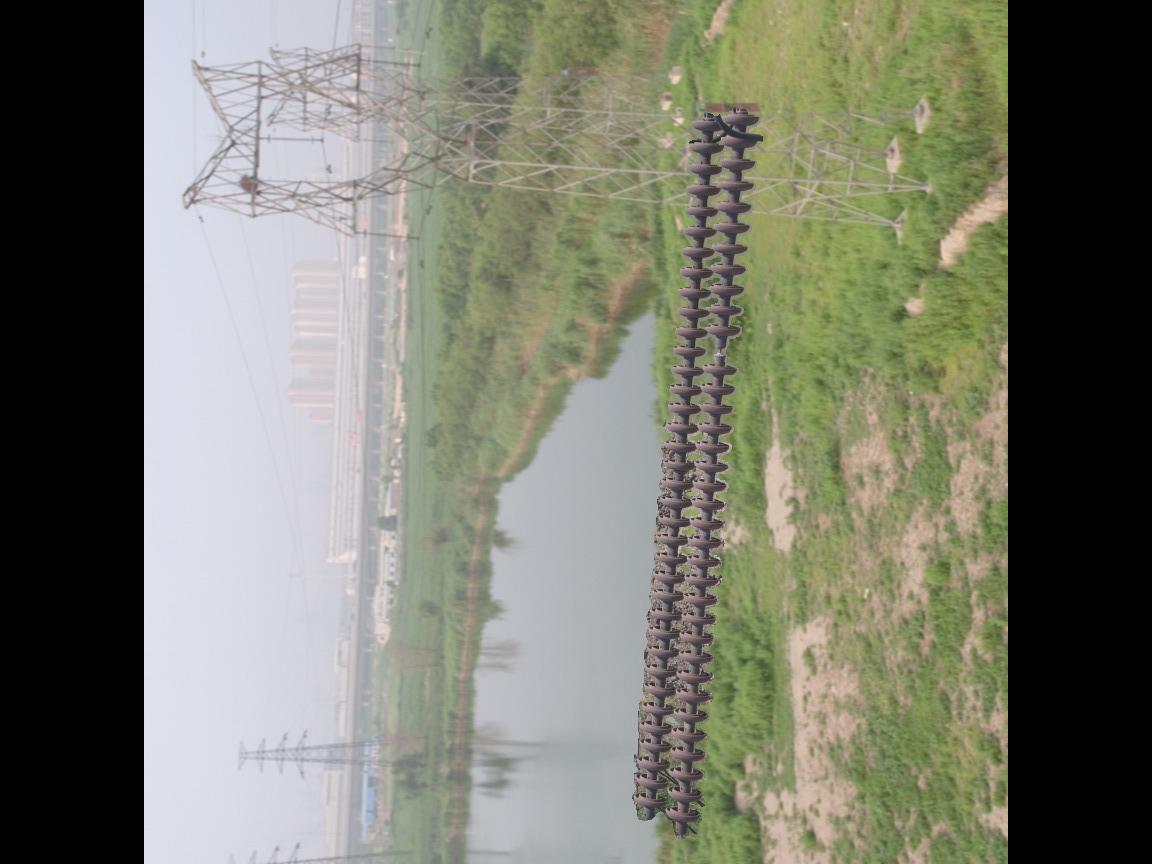insulator: (627, 101, 766, 844)
insulator_stringdrop: (700, 318, 746, 382)
